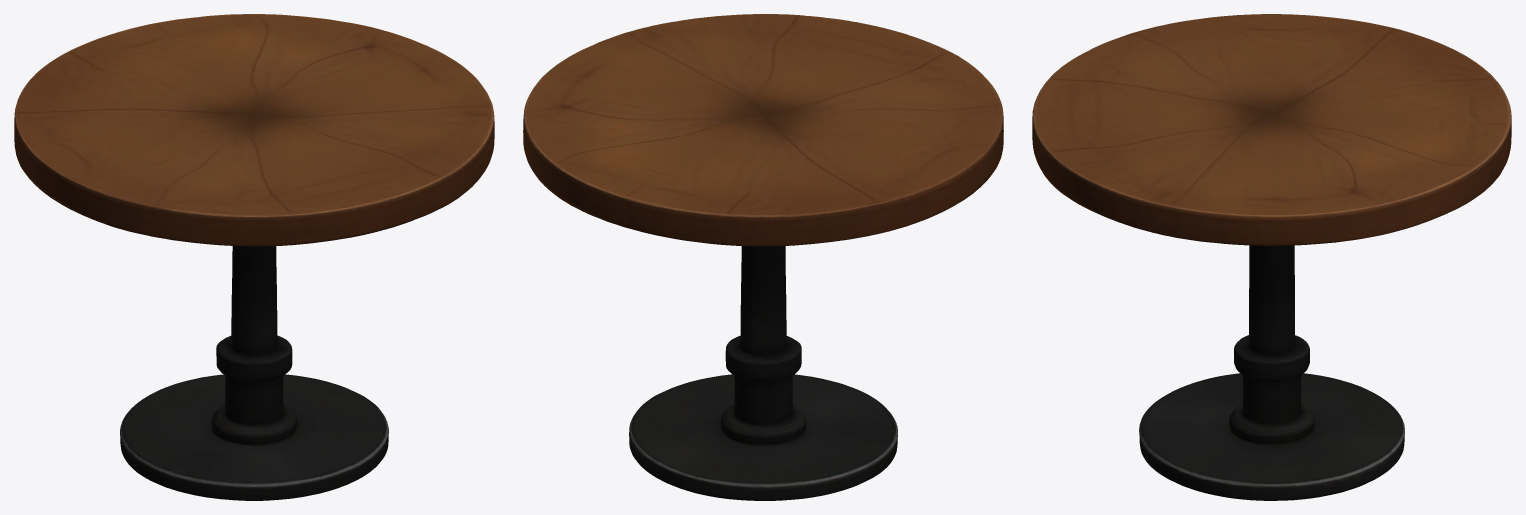
File: env_cafe_table.glb
The picture shows the model from 3 angles, left to right: view 1: azimuth 30°, elevation 25°; view 2: azimuth 150°, elevation 25°; view 3: azimuth 270°, elevation 25°; orthographic projection.
Parts seen in each view (by area): view 1: geometry_0; view 2: geometry_0; view 3: geometry_0.
Boxes of the visible parts, box(x1,y1,x2,y2) form: geometry_0: box(14, 14, 494, 500); geometry_0: box(523, 14, 1003, 500); geometry_0: box(1032, 14, 1511, 500).
Bounding box in the file's own units: 0.9997 × 0.7608 × 0.9996.
1 material, 1 textured.
